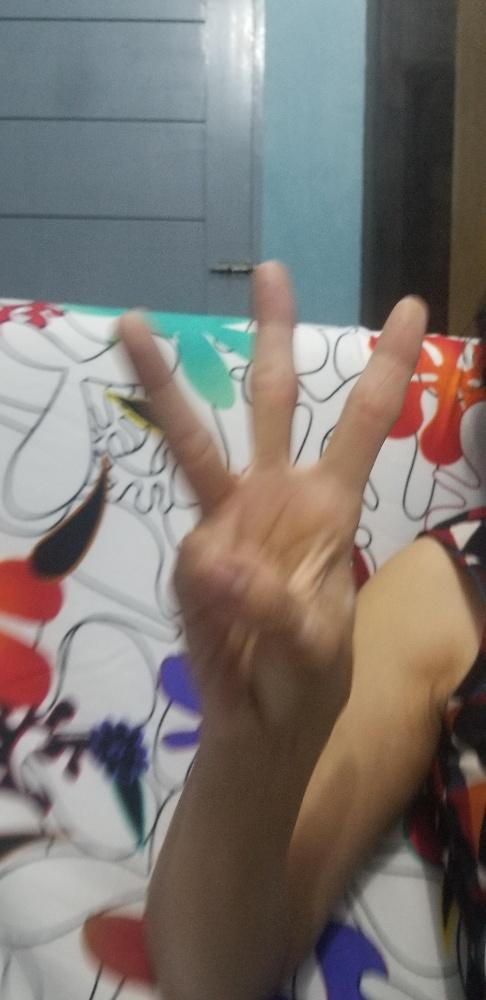w: (113, 260, 428, 726)
